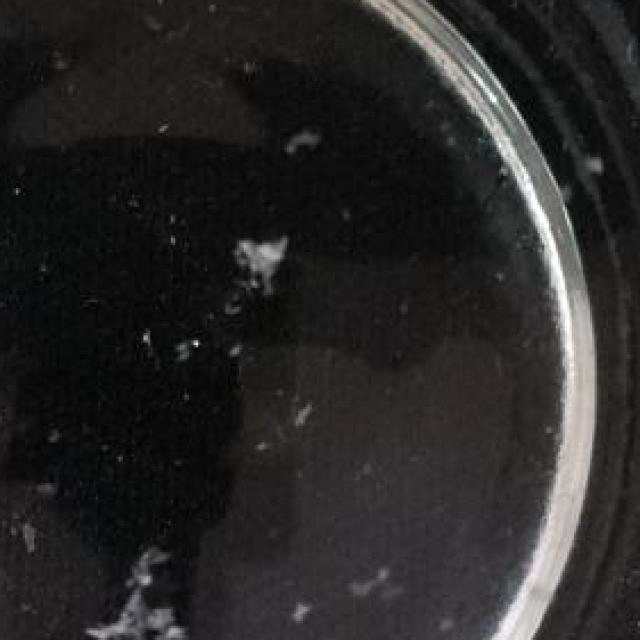Microplastic: (86, 542, 216, 640), (225, 205, 308, 295), (337, 547, 417, 616), (271, 98, 335, 166), (268, 571, 332, 638), (576, 126, 626, 202)
